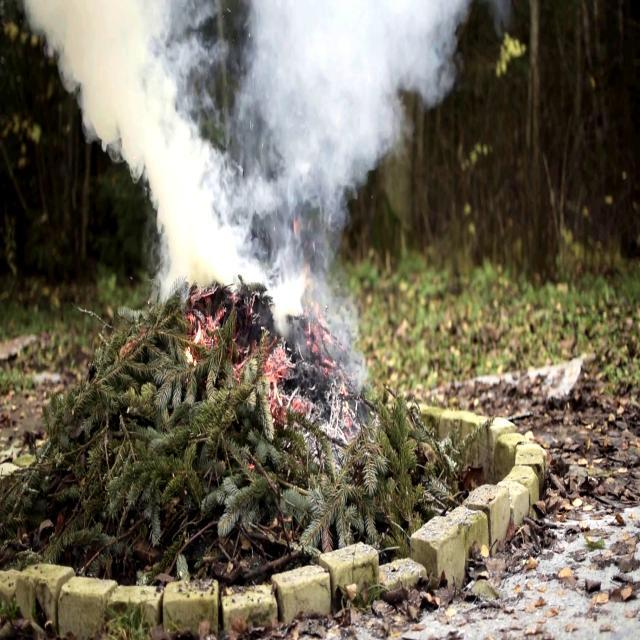Smoke: (260, 0, 454, 325), (69, 0, 255, 283)
